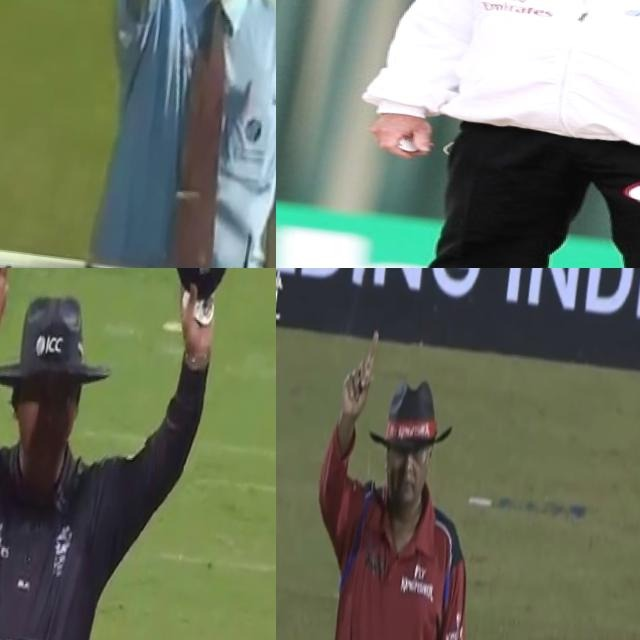No_Action: (332, 0, 640, 268)
Out: (279, 314, 515, 640), (73, 0, 276, 268)
Six: (0, 268, 240, 640)
